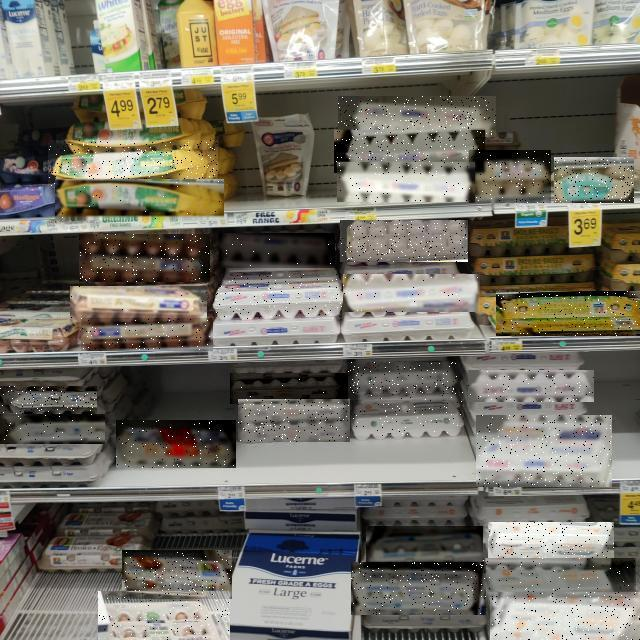Eggs: (476, 415, 612, 487), (48, 140, 218, 188), (352, 562, 488, 615), (490, 592, 640, 640), (55, 180, 224, 220), (334, 130, 485, 173), (496, 291, 640, 336), (338, 96, 496, 137), (98, 591, 230, 640), (79, 234, 210, 282), (484, 558, 638, 598), (488, 522, 614, 570), (215, 274, 343, 319), (116, 420, 236, 468), (337, 162, 475, 202), (122, 550, 232, 599), (340, 220, 468, 262), (344, 274, 482, 312), (350, 392, 464, 436), (70, 286, 207, 322), (366, 526, 483, 568), (238, 399, 350, 442), (81, 318, 213, 351), (469, 150, 551, 203), (348, 363, 460, 401), (219, 234, 335, 270), (468, 370, 594, 402), (554, 157, 634, 203), (230, 373, 348, 404), (0, 415, 105, 445), (0, 386, 97, 416)
